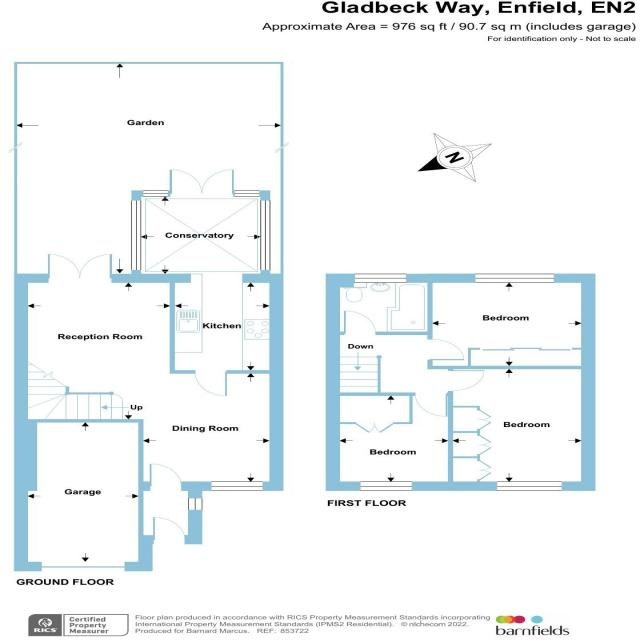DOOR: (149, 462, 183, 492), (151, 516, 186, 545), (193, 369, 229, 397), (341, 310, 378, 336), (426, 338, 467, 361), (447, 370, 487, 393), (413, 392, 448, 417)
DOUBLE DOOR: (168, 167, 237, 199), (46, 252, 113, 282)
ROOM: (12, 252, 285, 492), (448, 365, 596, 490), (425, 273, 596, 370), (168, 272, 285, 397), (323, 392, 454, 492)
WINDOW: (258, 200, 272, 271), (129, 200, 142, 271), (473, 273, 556, 284), (495, 481, 563, 492), (352, 272, 407, 284), (210, 480, 264, 492), (359, 481, 414, 492), (142, 189, 170, 198), (234, 189, 262, 198), (186, 498, 204, 511)
